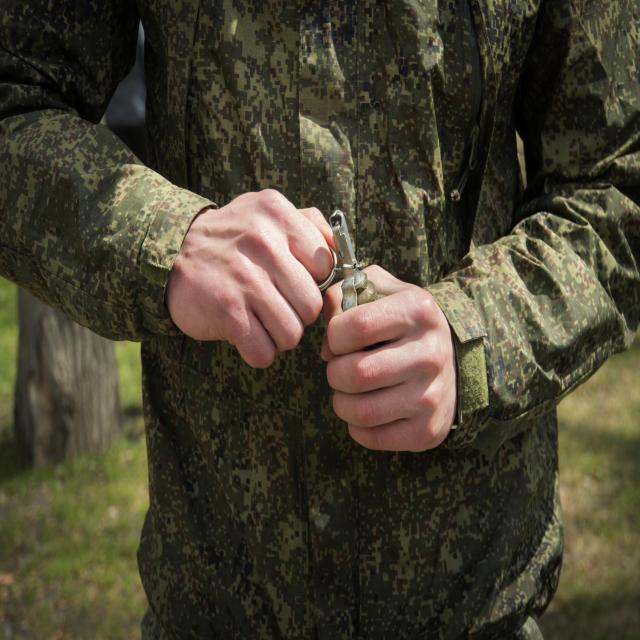grenade: (317, 210, 385, 315)
